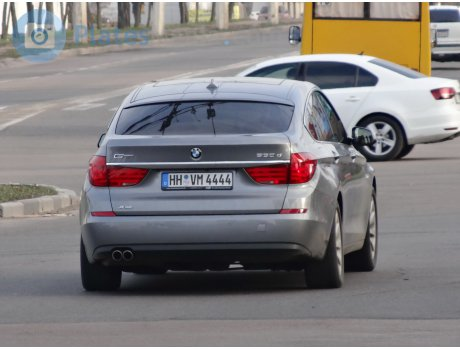License Plates: (167, 175, 234, 185)
